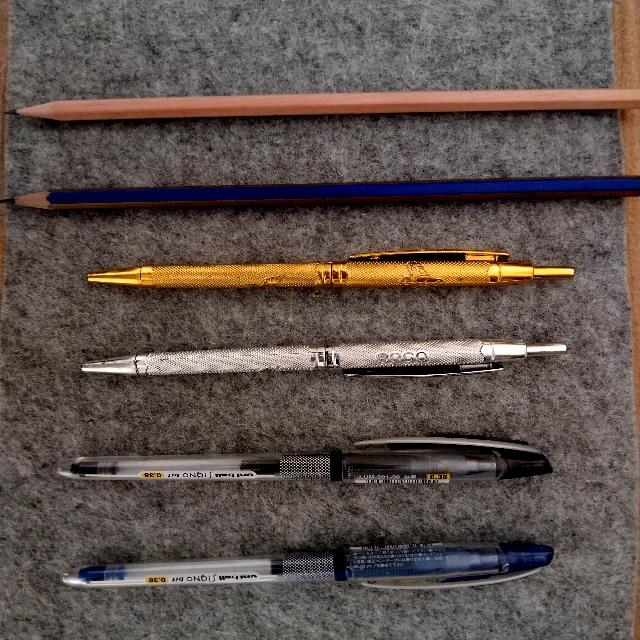pen: (57, 437, 551, 483), (62, 543, 553, 588)
pencil: (12, 176, 639, 209), (17, 88, 639, 120)
signature pen: (87, 250, 573, 287), (82, 339, 565, 376)
